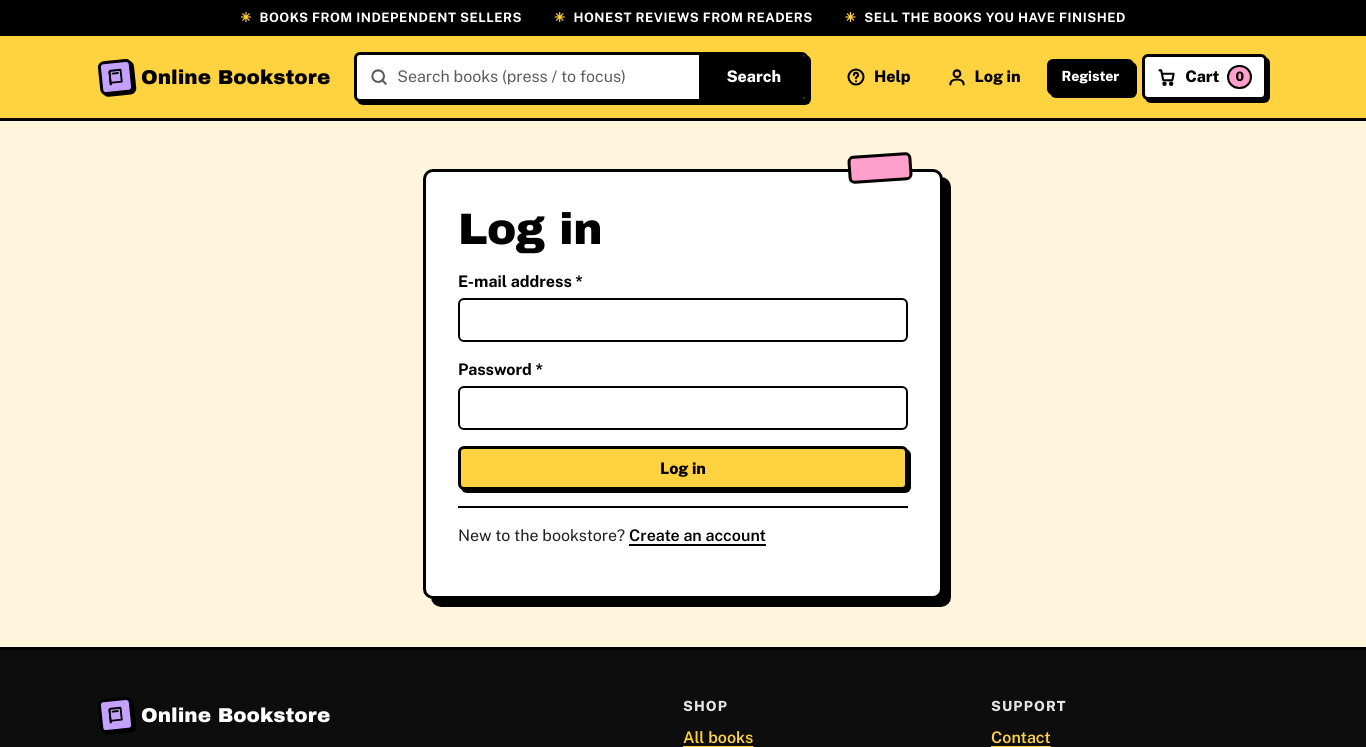
Test: Login page › SASD 4.2.3: the cart count comes from the login response, without a second request
Type "anita.rao@testmail.example" into the field labelled "E-mail address *" at [683, 320], box [458, 298, 908, 342]
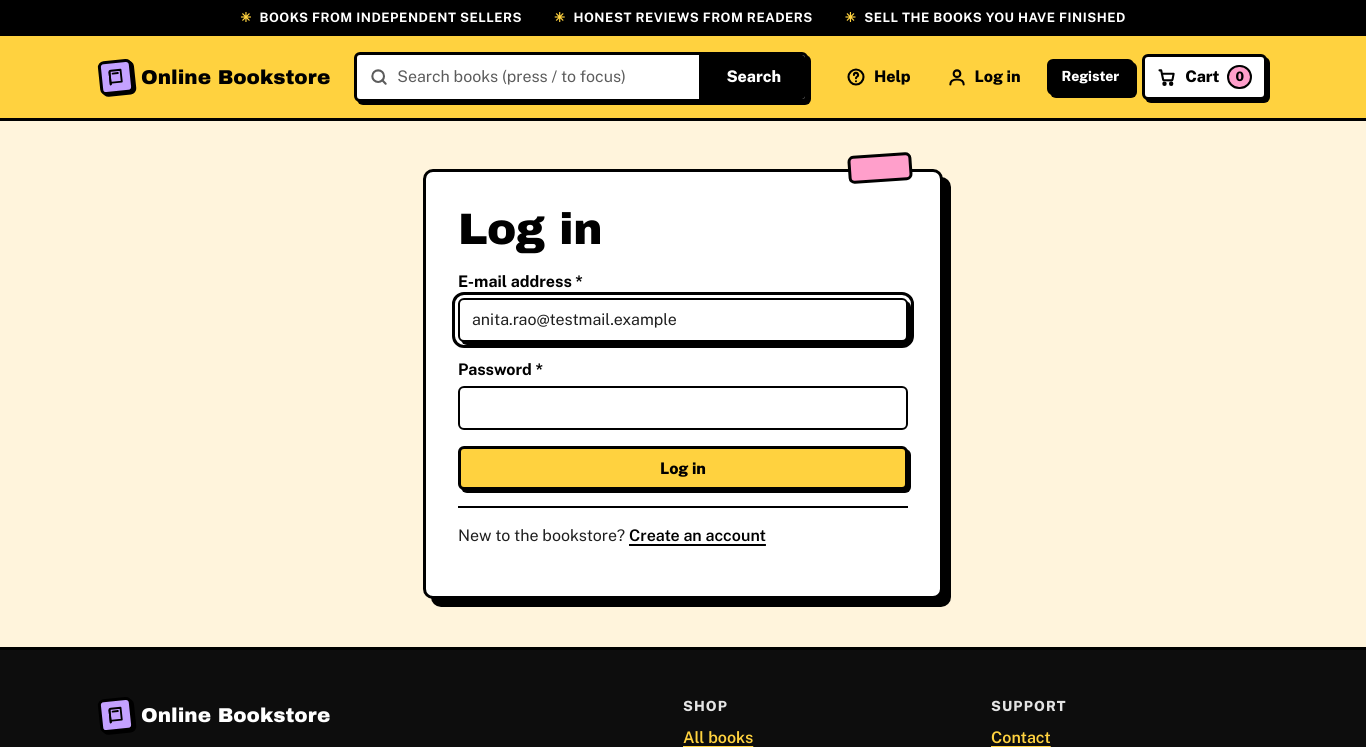
Type "BookTest#2026" into the password field labelled "Password *" at [683, 408], box [458, 386, 908, 430]
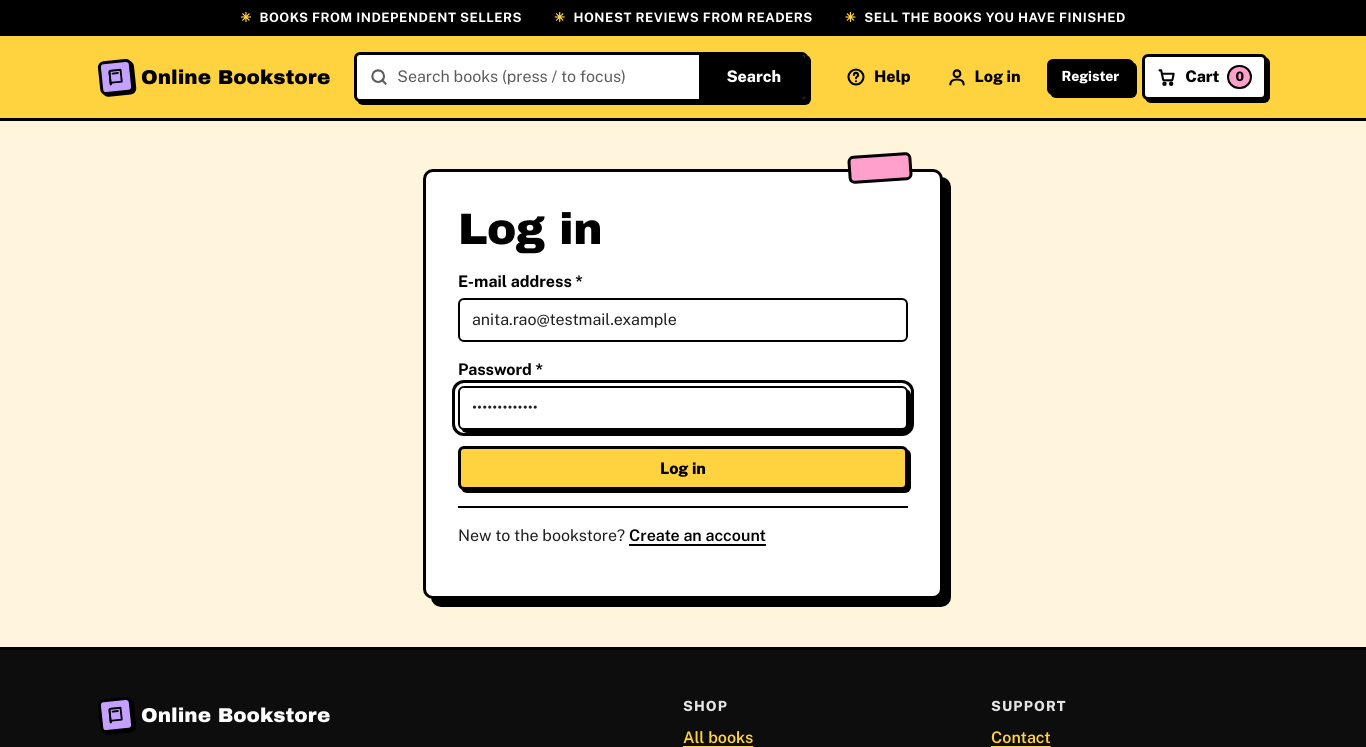
Click the button "Log in" at [683, 468], box [458, 446, 908, 490]
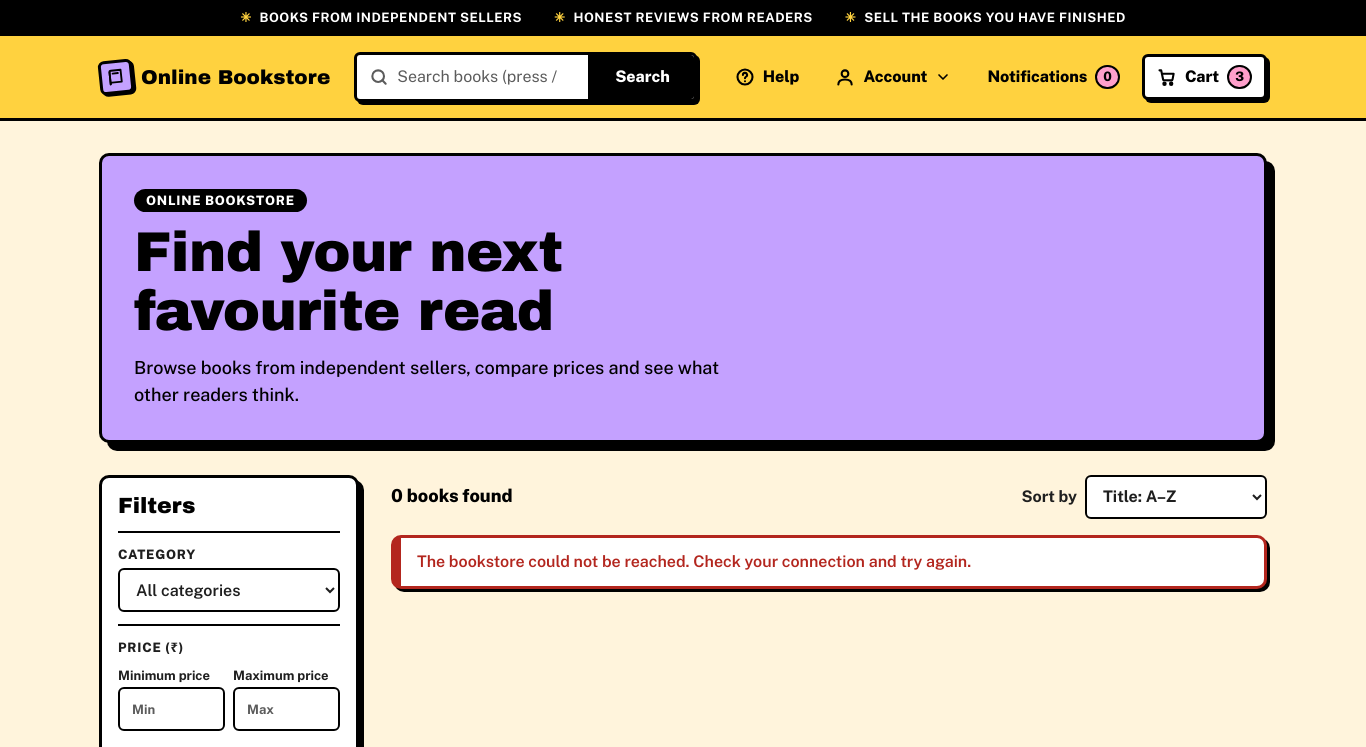
Result: the link with aria-label "Cart, 3 items" is shown at [1142, 54, 1267, 100]
